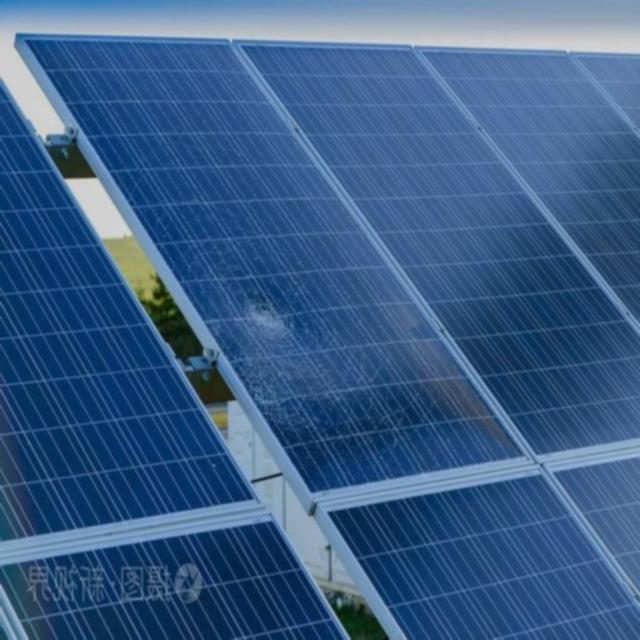cracked: (50, 38, 506, 484)
